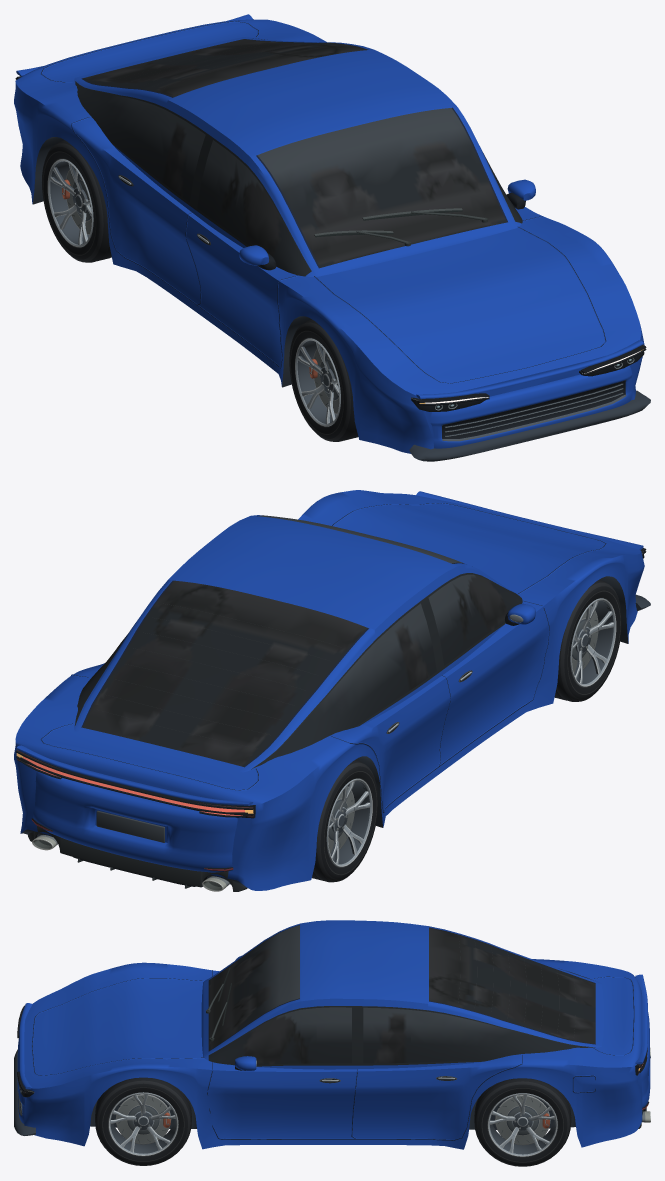
File: sedan.glb
3 renders of one model, top to bottom at view 1: azimuth 30°, elevation 25°; view 2: azimuth 150°, elevation 25°; view 3: azimuth 270°, elevation 25°, orthographic. The views are drawn at different scales.
Parts seen in each view (by area): view 1: body, wheelRR, wheelFR; view 2: body, wheelFR, wheelRR, lampRear; view 3: body, wheelRL, wheelFL.
Boxes of the visible parts, bbox=[...] form: body: bbox=[14, 14, 650, 461]; wheelRR: bbox=[42, 140, 111, 262]; wheelFR: bbox=[289, 319, 358, 441]; body: bbox=[14, 490, 650, 891]; wheelFR: bbox=[554, 579, 621, 701]; wheelRR: bbox=[312, 760, 378, 882]; lampRear: bbox=[16, 753, 253, 815]; body: bbox=[14, 920, 650, 1149]; wheelRL: bbox=[474, 1078, 571, 1166]; wheelFL: bbox=[95, 1077, 191, 1165].
Size of the model in its own units: 1.99 by 1.36 by 4.87.
